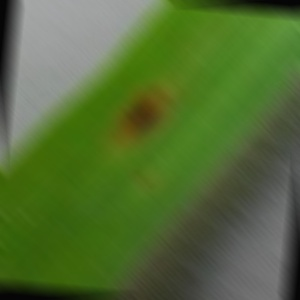Bacterial_Leaf_Blight: (103, 78, 179, 153), (131, 171, 157, 186)
